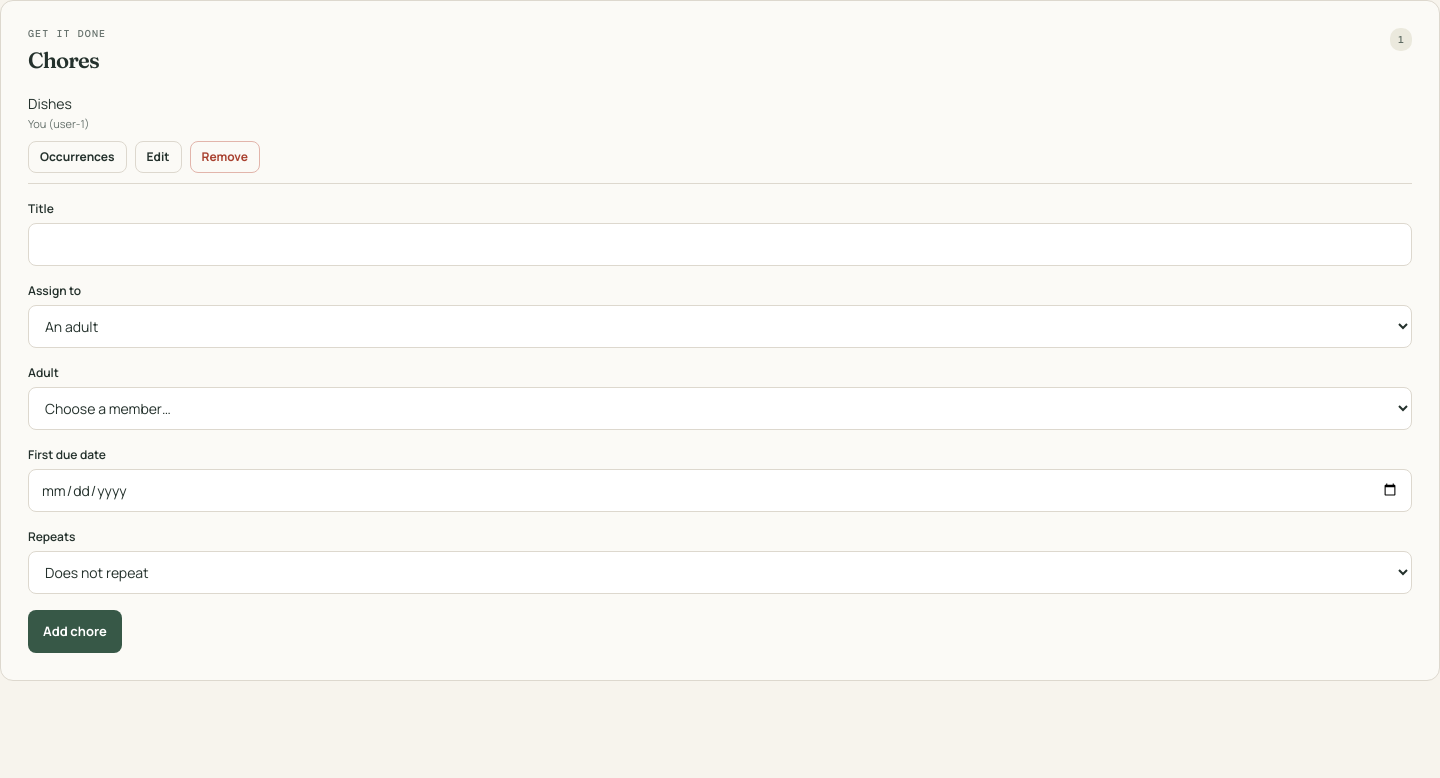
Scenario: ChoresPanel › edits a chore, including the recurrence field absent from title/assignee inputs
Click the button "Edit" at (158, 156), box top-left (134, 140), bottom-right (182, 172)
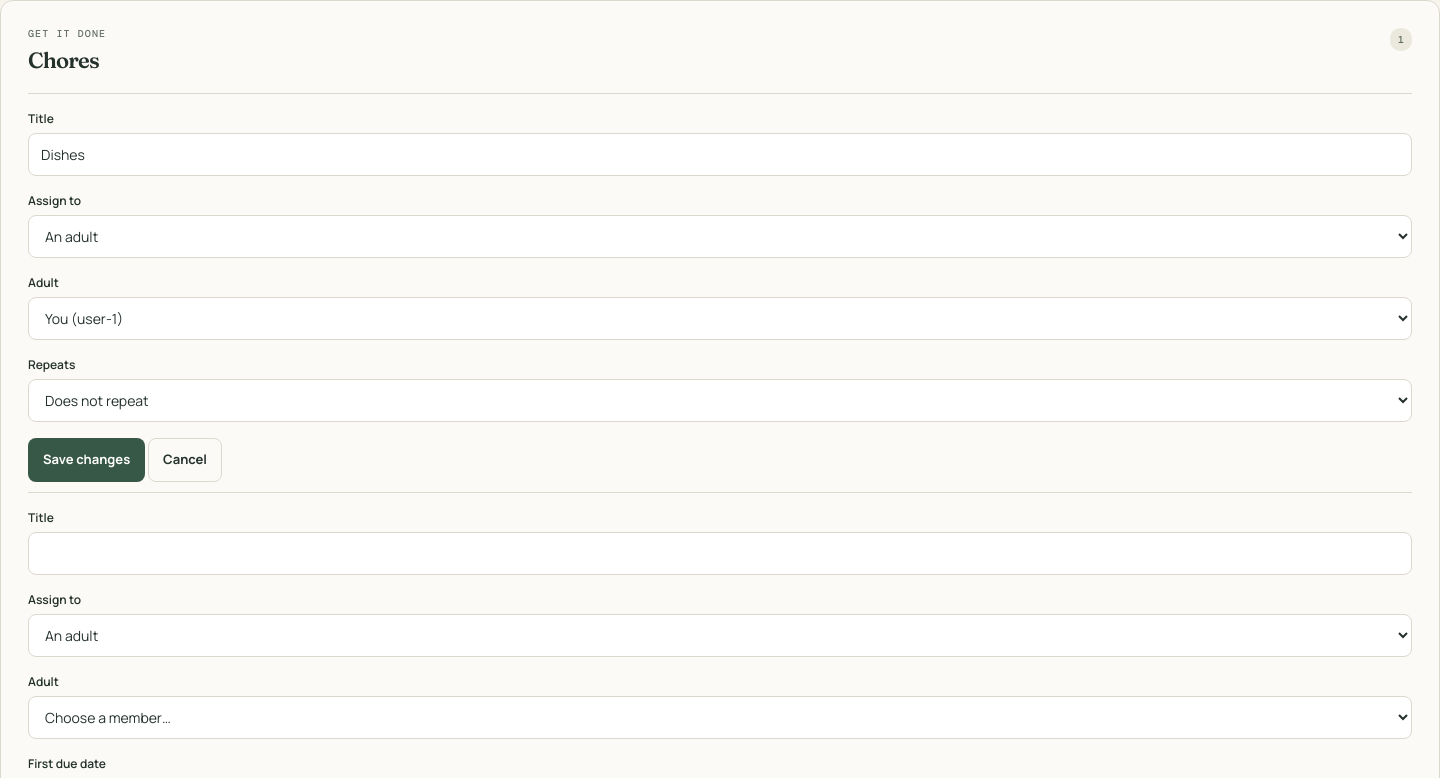
Replace the text in the 1st field labelled "Title" with "Dishes (updated)" at (720, 154), box top-left (28, 133), bottom-right (1412, 176)
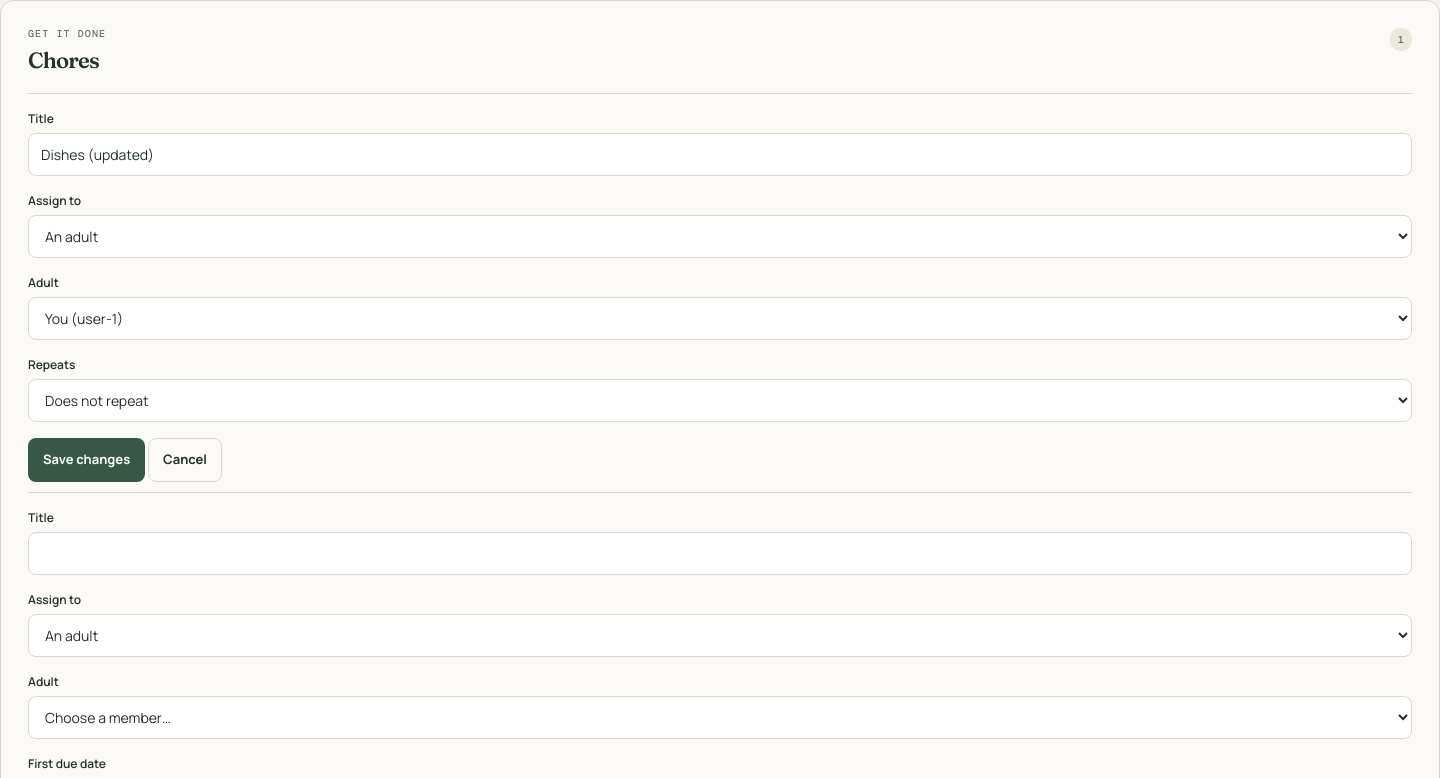
Select "Weekly" in the dropdown labelled "Repeats" at (720, 400), box top-left (28, 379), bottom-right (1412, 422)
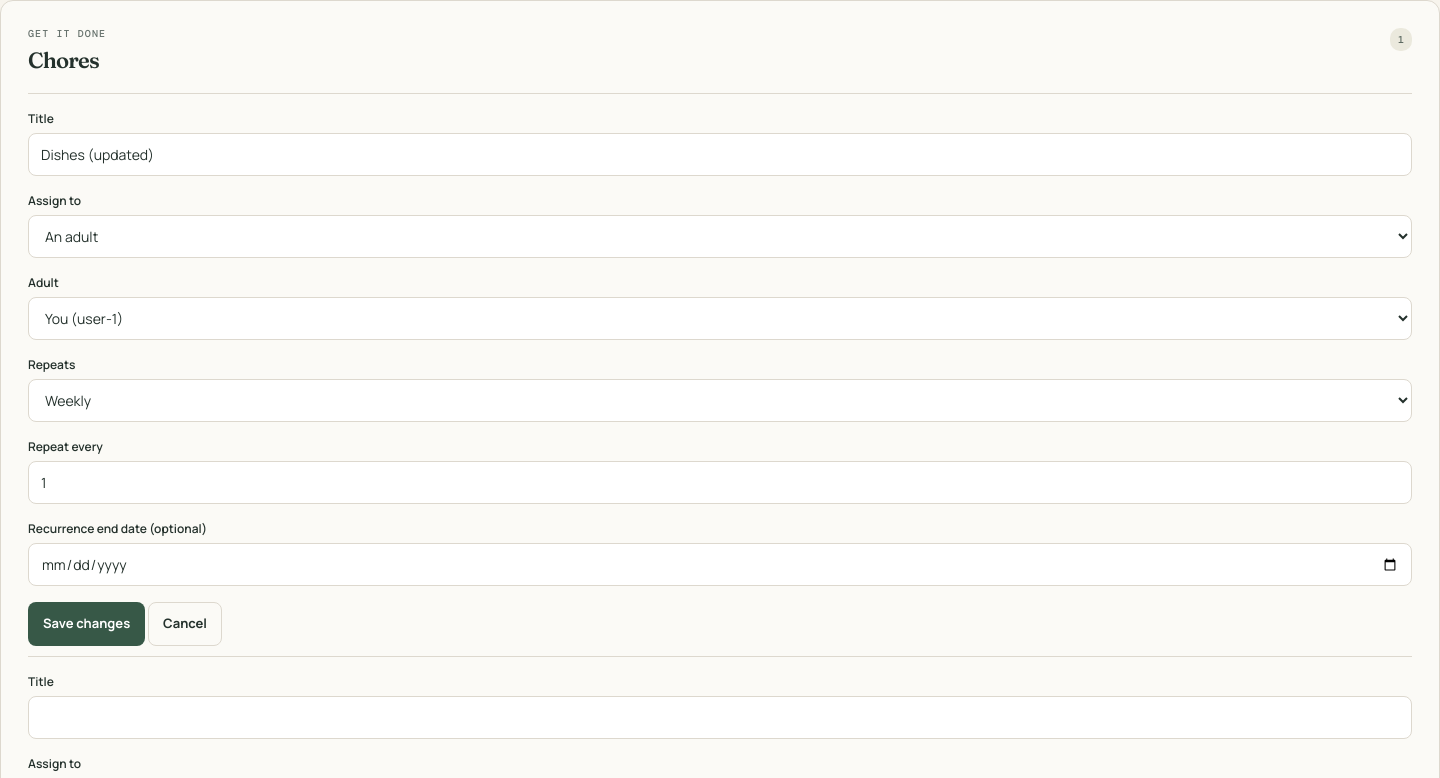
Replace the text in the number field labelled "Repeat every" with "2" at (720, 482), box top-left (28, 461), bottom-right (1412, 504)
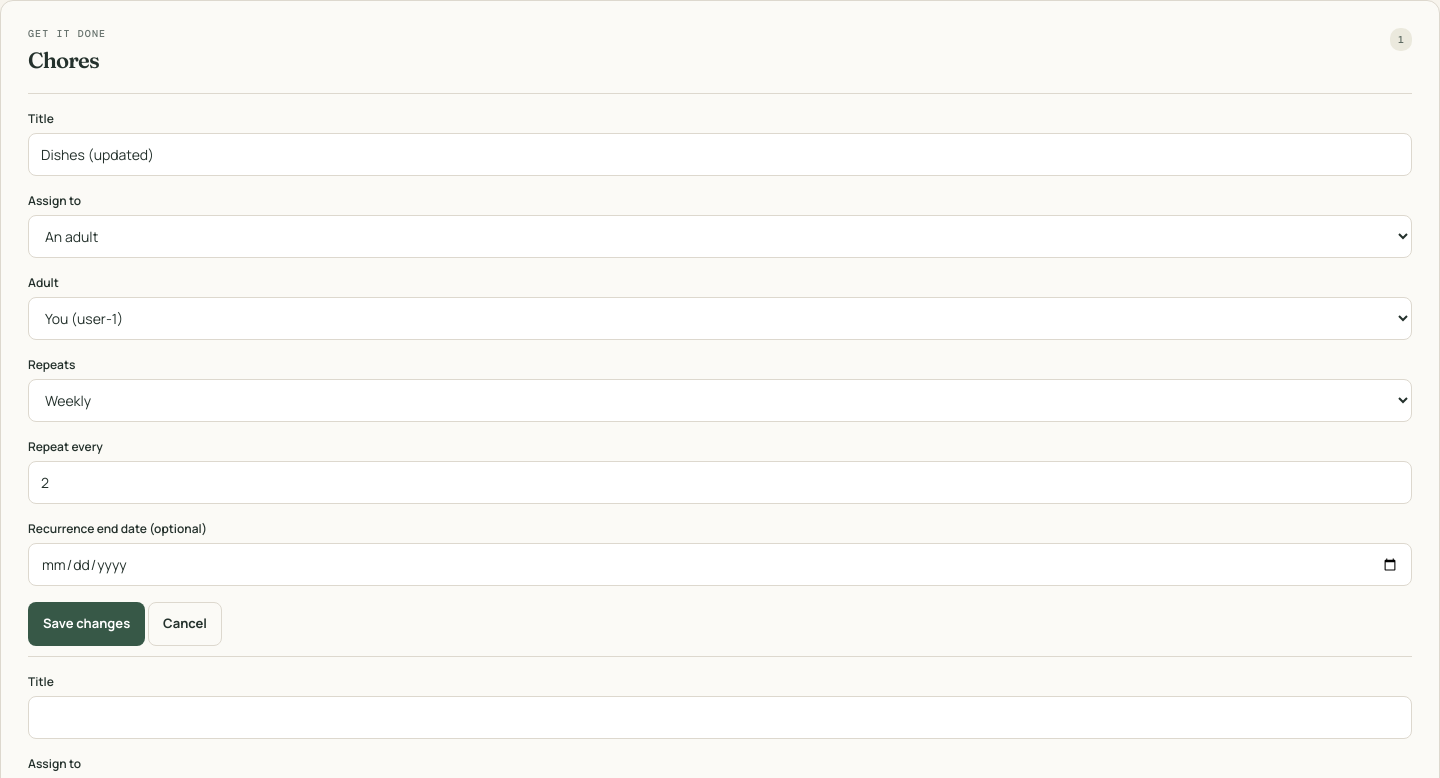
Click the button "Save changes" at (87, 624), box top-left (28, 602), bottom-right (145, 646)
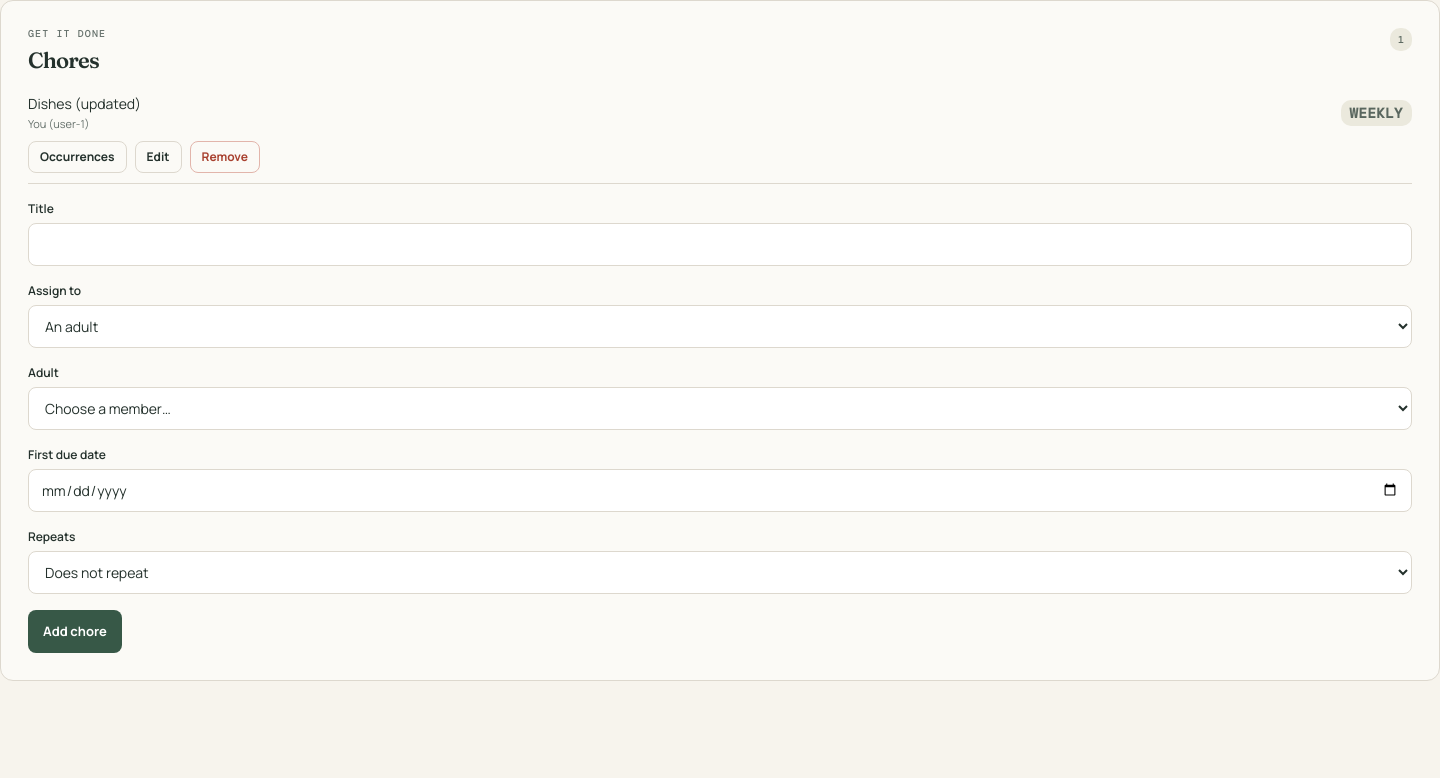
Expected: the text "Dishes (updated)" is shown, top-left (28, 94), bottom-right (141, 113)
